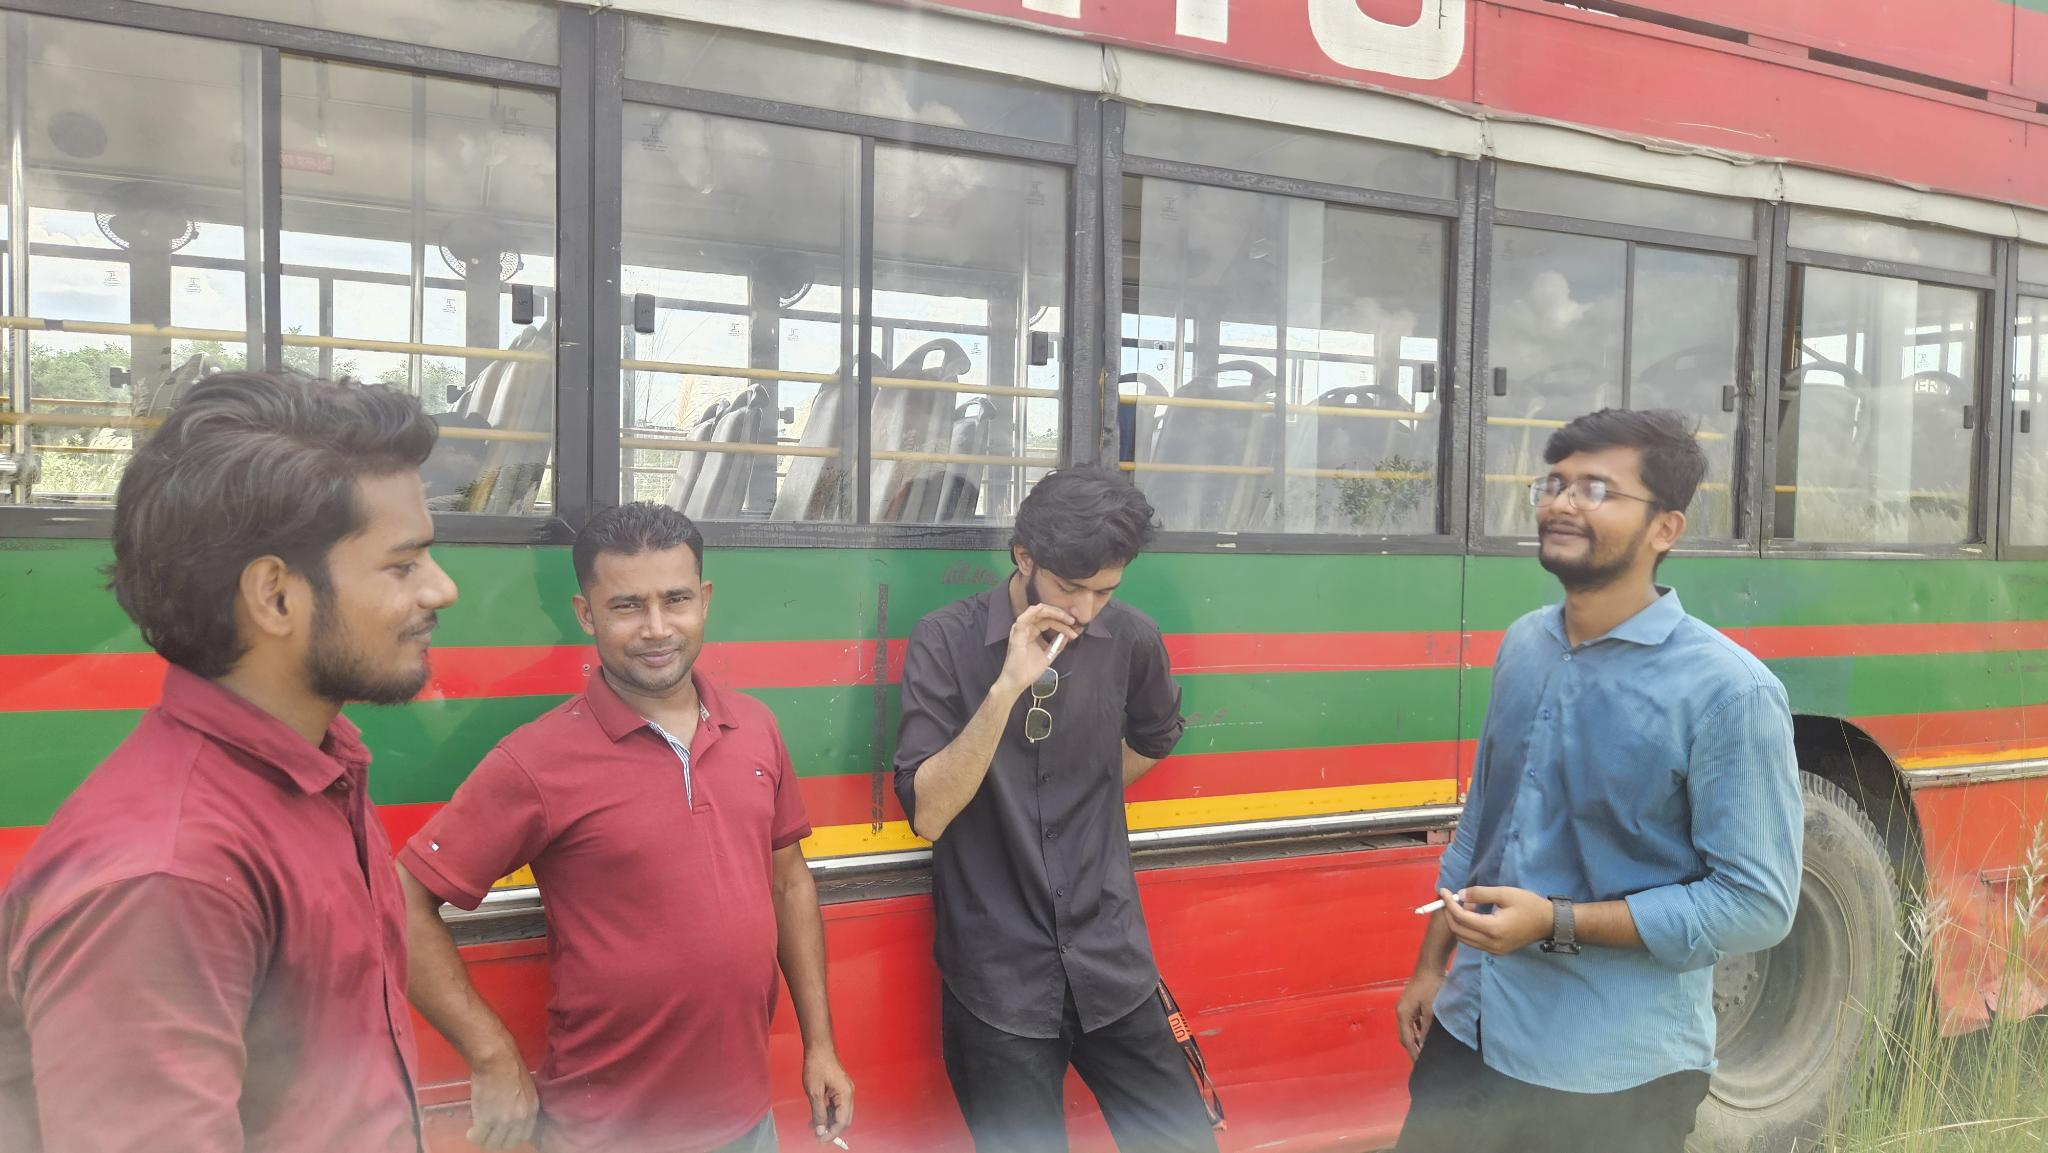cigarette: (1412, 891, 1461, 917), (1044, 630, 1066, 662), (823, 1129, 851, 1152)
nonSmoker: (0, 367, 460, 1153)
smoker: (1388, 408, 1807, 1153), (392, 499, 854, 1153), (893, 467, 1229, 1153)
